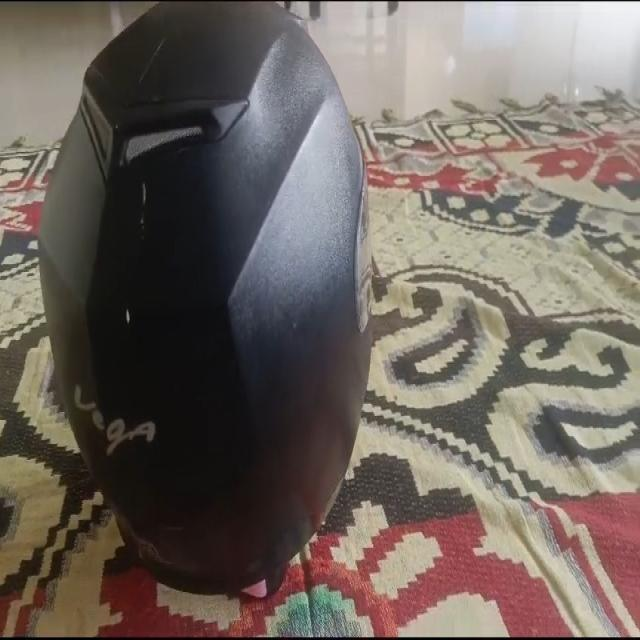Helmet: (37, 4, 373, 600)
